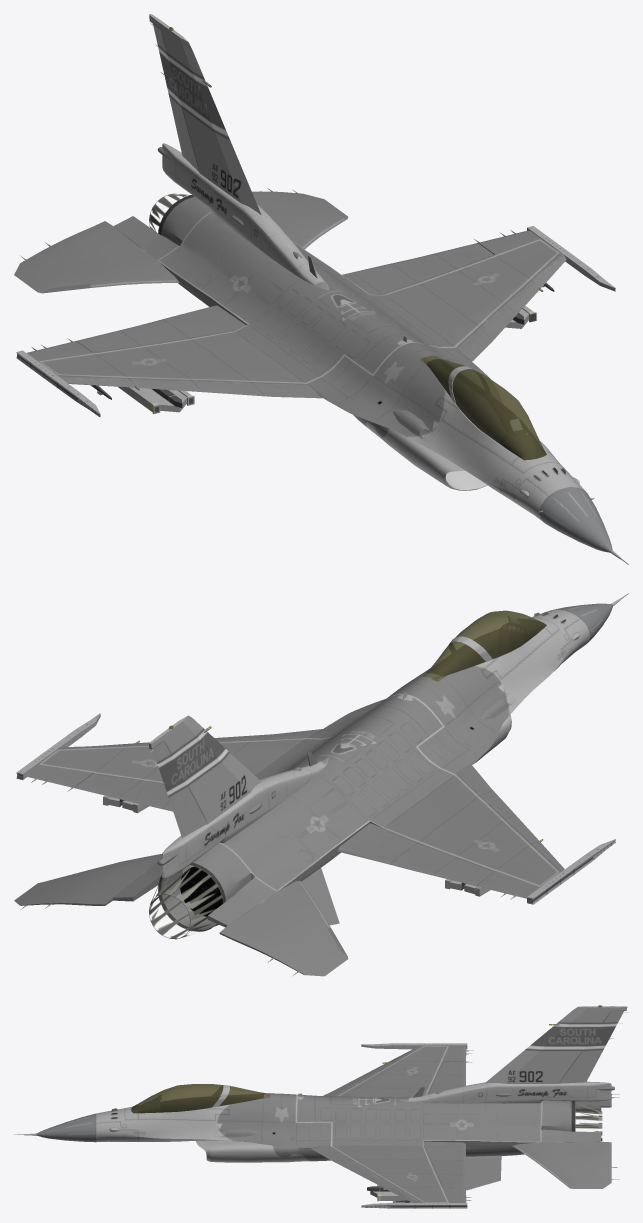
The model's file is f-16_jet.glb.
3 renders of one model, top to bottom at view 1: azimuth 30°, elevation 25°; view 2: azimuth 150°, elevation 25°; view 3: azimuth 270°, elevation 25°, orthographic. The views are drawn at different scales.
Parts seen in each view (by area): view 1: main_body, middle_wing_core2, middle_wing_core, wing_back2, polySurface303, back_wing_attach, front_part, middle_wing_move2, middle_wing_move, wing_back, cab_around, air_grab_main (+6 smaller); view 2: main_body, middle_wing_core2, wing_back2, middle_wing_core, polySurface303, back_wing_attach, middle_wing_move2, wing_back, nozzle, front_part, polySurface304, middle_wing_move (+7 smaller); view 3: main_body, middle_wing_core, polySurface303, middle_wing_core2, back_wing_attach, wing_back, front_part, air_grab_main, middle_wing_move, polySurface304, plane_big_back, cab_around (+7 smaller).
Boxes of the visible parts, x1,y1,x2,y2 form: main_body: (113,197,612,552); middle_wing_core2: (27,331,322,398); middle_wing_core: (384,230,566,361); wing_back2: (14,221,179,293); polySurface303: (149,14,261,214); back_wing_attach: (162,143,328,289); front_part: (452,369,546,460); middle_wing_move2: (76,305,245,352); middle_wing_move: (342,243,494,294); wing_back: (252,191,347,249); cab_around: (427,359,546,458); air_grab_main: (368,421,487,490); main_body: (113,603,612,927); middle_wing_core2: (384,765,564,898); wing_back2: (219,880,348,976); middle_wing_core: (24,729,322,788); polySurface303: (149,715,261,824); back_wing_attach: (162,758,328,878); middle_wing_move2: (337,823,494,886); wing_back: (14,854,161,905); nozzle: (149,863,225,939); front_part: (453,610,546,658); polySurface304: (152,741,207,837); middle_wing_move: (75,773,172,811); main_body: (36,1093,601,1148); middle_wing_core: (311,1146,466,1202); polySurface303: (485,1006,627,1083); middle_wing_core2: (323,1045,466,1097); back_wing_attach: (399,1081,611,1103); wing_back: (512,1141,611,1188); front_part: (131,1084,223,1113); air_grab_main: (196,1140,298,1162); middle_wing_move: (423,1141,465,1188); polySurface304: (559,1011,623,1083); plane_big_back: (466,1155,501,1190); cab_around: (131,1093,263,1112).
Bounding box in the file's own units: 1.24 × 0.6067 × 2.
Materials: 1 (1 with a texture image).
